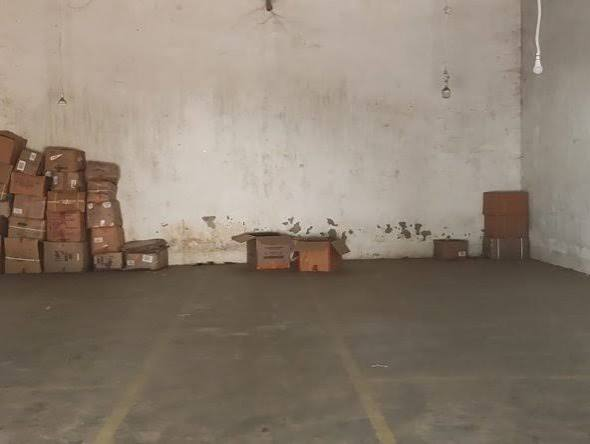box: (295, 238, 339, 275), (45, 244, 89, 277), (3, 239, 41, 277), (249, 232, 287, 265), (476, 235, 535, 256), (485, 187, 530, 214), (127, 242, 171, 267), (45, 140, 79, 171), (51, 212, 85, 241), (87, 201, 122, 227), (48, 189, 91, 210), (90, 228, 127, 251), (485, 219, 532, 237), (10, 197, 45, 218), (12, 173, 43, 195), (20, 144, 41, 176), (95, 249, 125, 271), (13, 218, 44, 239), (436, 235, 463, 259), (51, 171, 89, 188), (0, 130, 20, 161), (89, 159, 114, 181), (91, 183, 111, 202)
